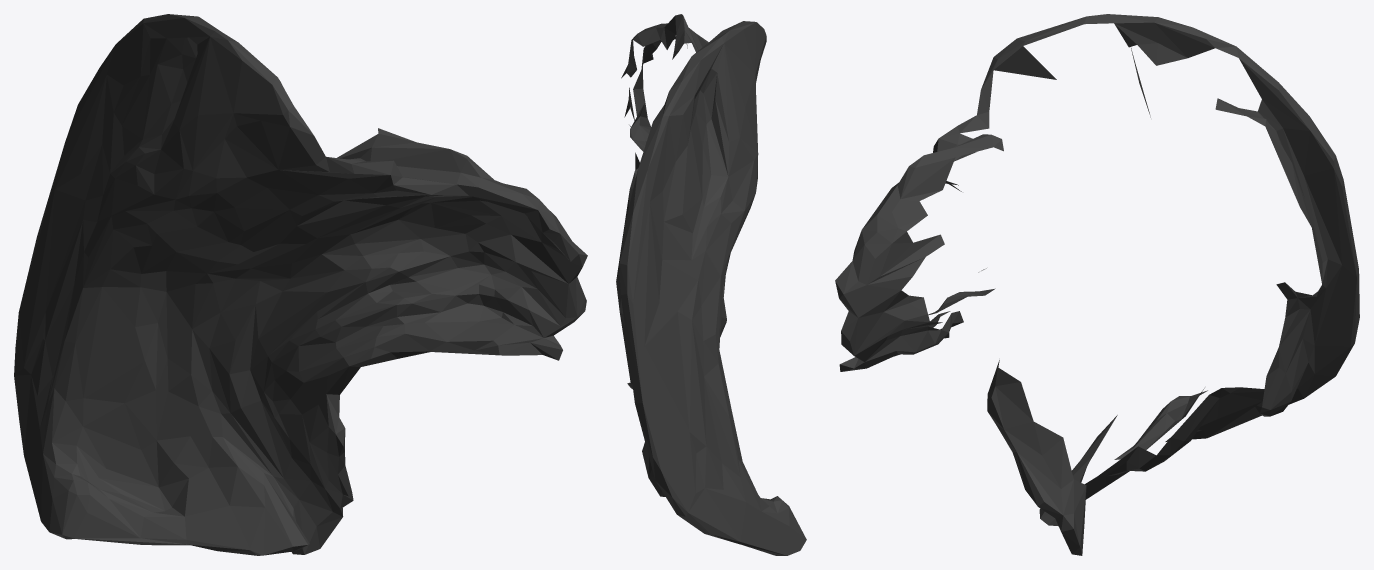
The model's file is omasal_laminae.glb.
3 views of the same model, side by side, from view 1: azimuth 30°, elevation 25°; view 2: azimuth 150°, elevation 25°; view 3: azimuth 270°, elevation 25° (orthographic). The views are drawn at different scales.
Parts seen in each view (by area): view 1: omasal_laminae; view 2: omasal_laminae; view 3: omasal_laminae.
Boxes of the visible parts, bbox=[...] form: omasal_laminae: bbox=[14, 14, 587, 555]; omasal_laminae: bbox=[616, 14, 806, 555]; omasal_laminae: bbox=[835, 14, 1359, 555].
Bounding box in the file's own units: 0.5469 × 0.7643 × 0.7201.
Materials: 1 (1 with a texture image).
